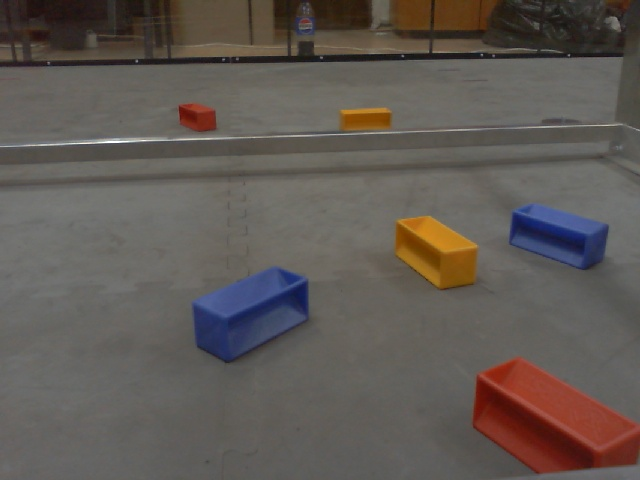BlueSample: (189, 263, 313, 363), (507, 202, 611, 272)
RedSample: (468, 354, 640, 476), (178, 101, 218, 133)
YellowSample: (391, 206, 484, 294), (337, 107, 394, 131)
